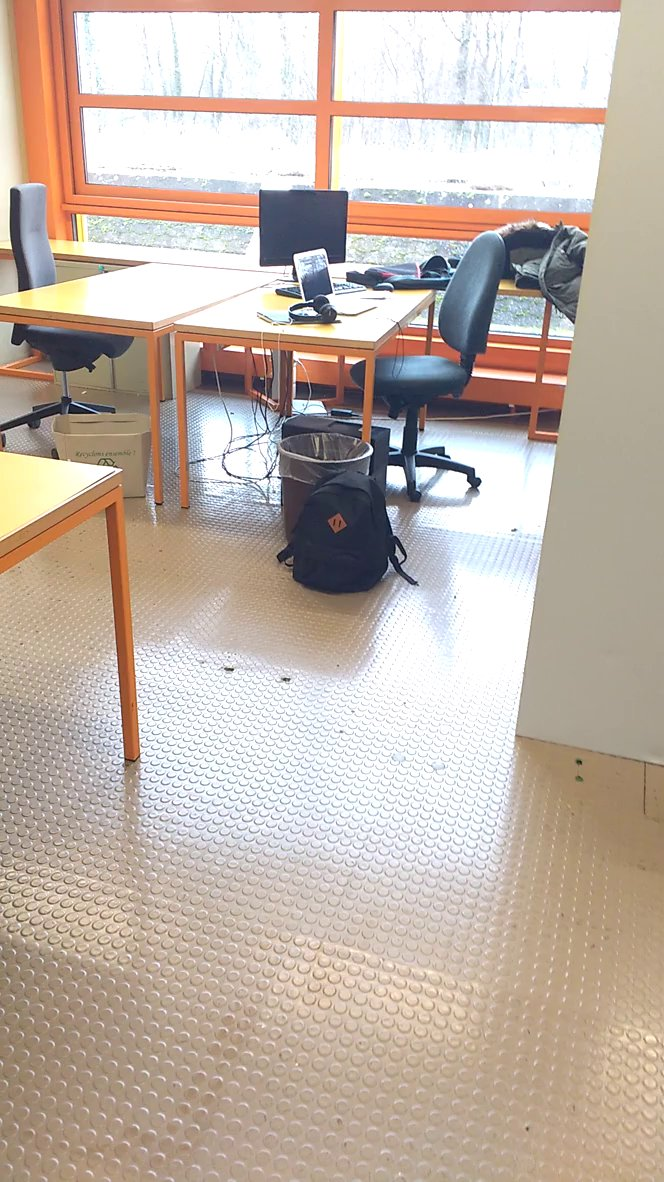bag: (271, 459, 431, 600)
bin: (274, 425, 377, 508)
box: (46, 406, 165, 505)
chair: (355, 228, 520, 428), (5, 172, 132, 380)
laptop: (290, 241, 388, 319)
